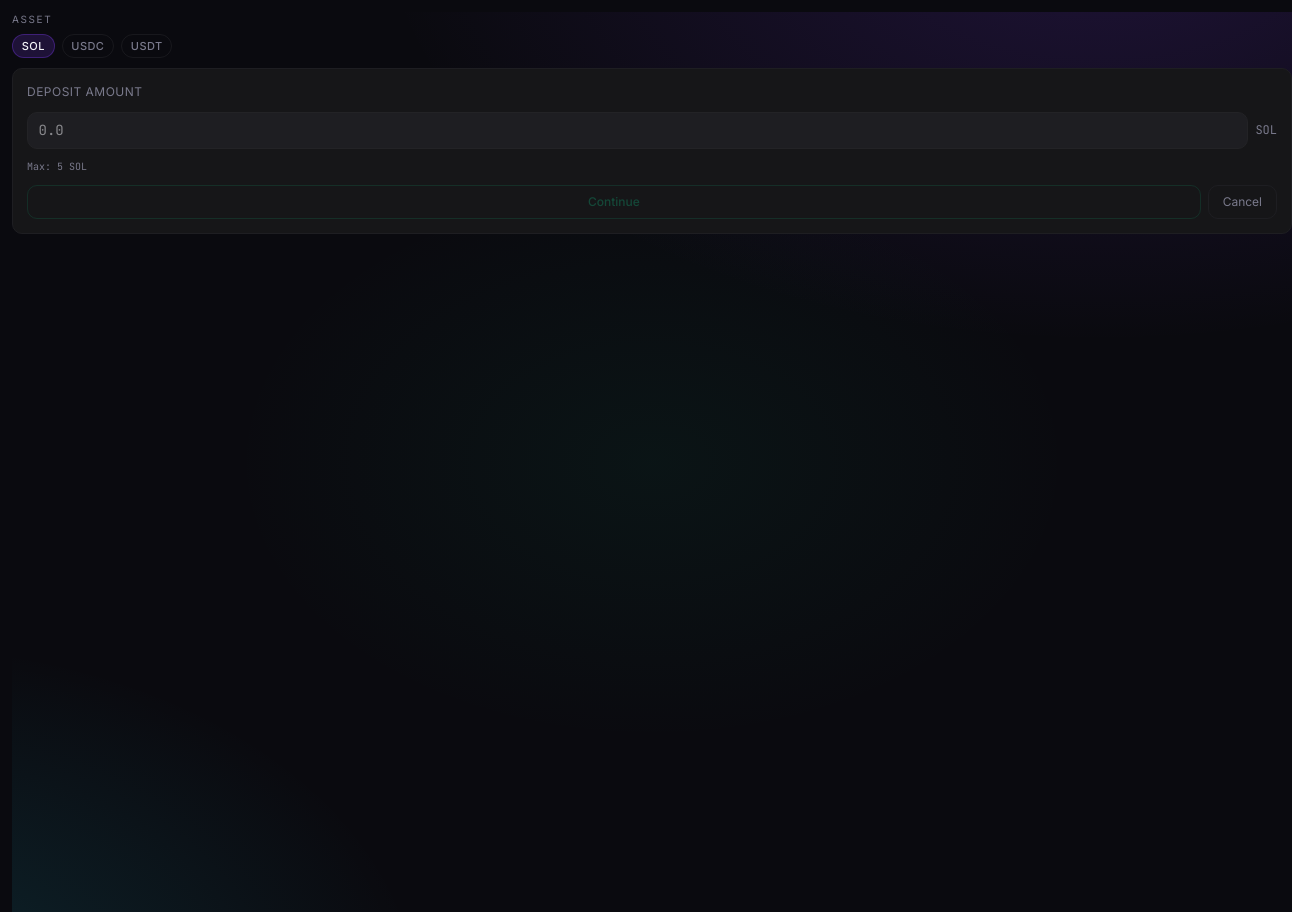
Test case: DepositForm › switches max when AssetSelector value changes
Click the button "USDC": (88, 46) [62,34,114,58]
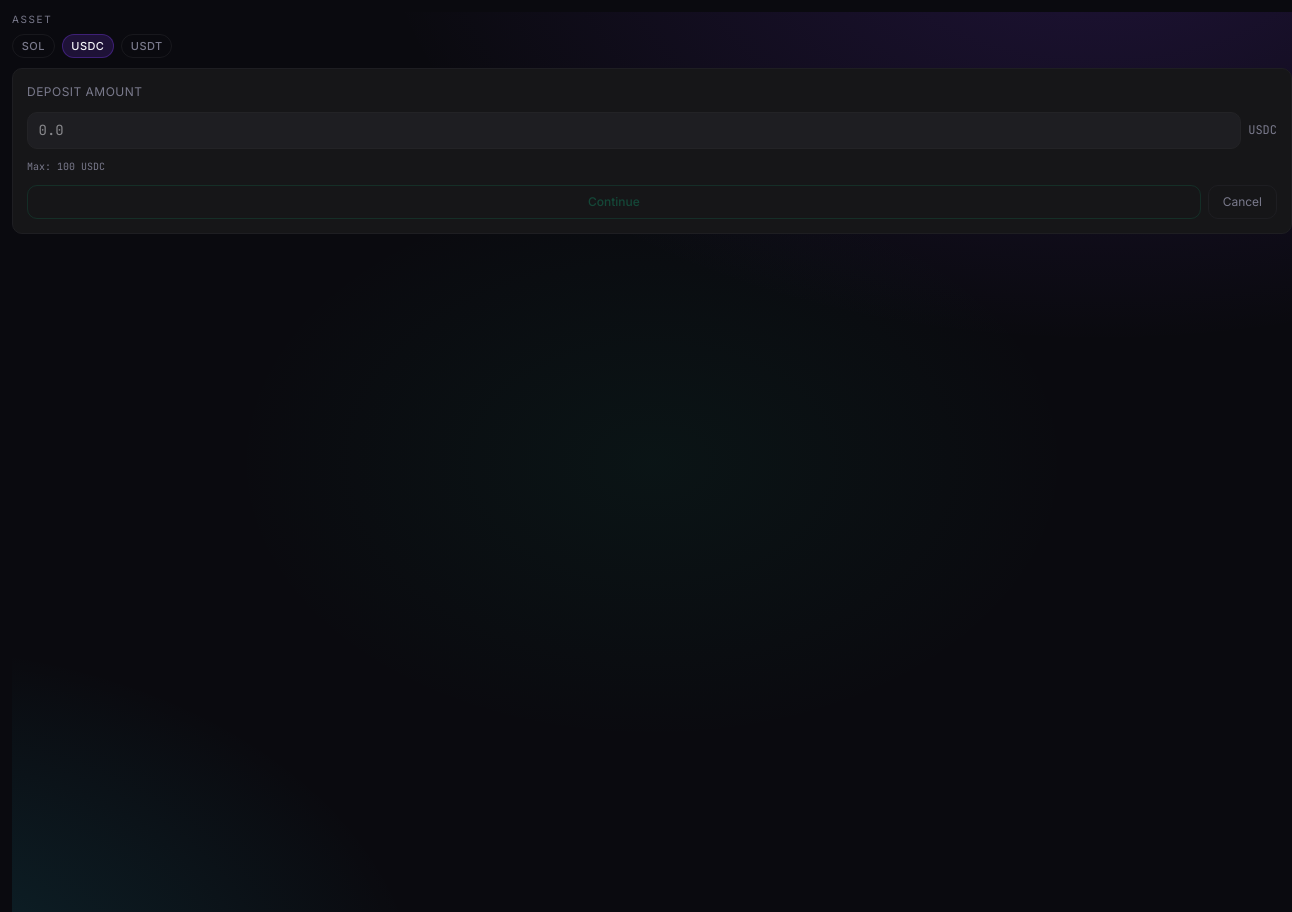
Now the text "Max: 100 USDC" is shown, box [27,160,105,173]
